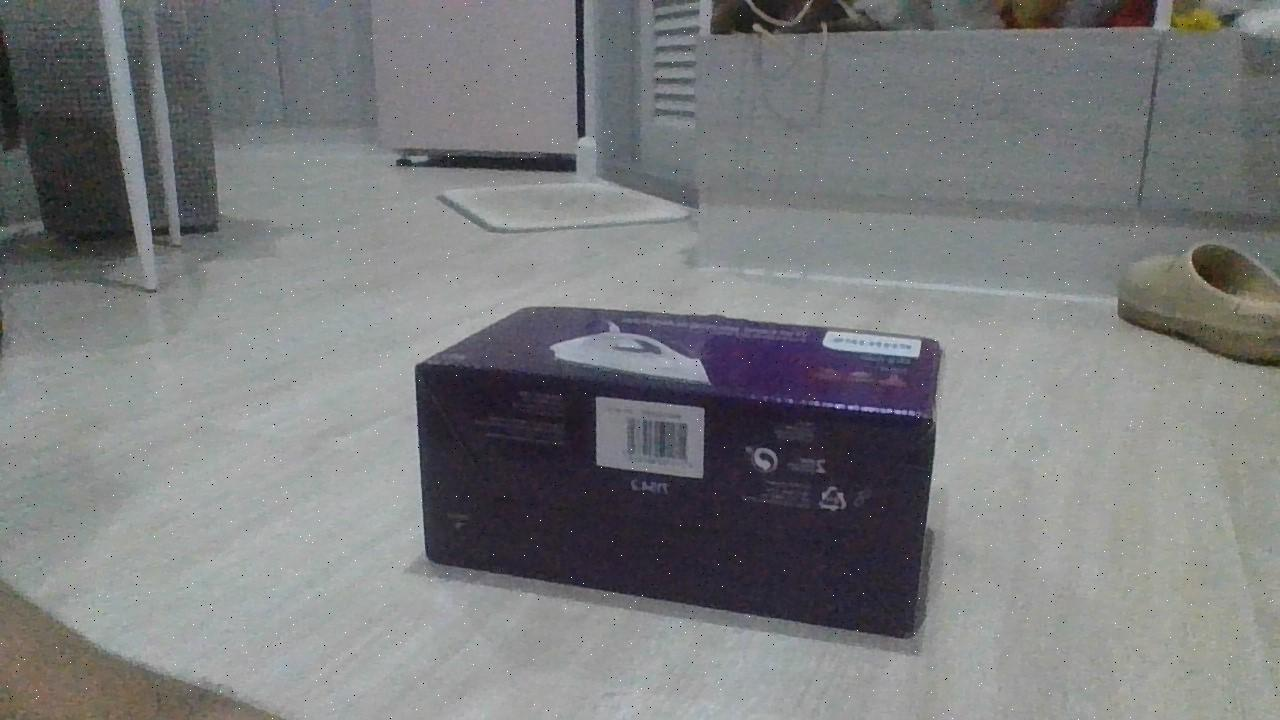IRON: (411, 301, 948, 642)
